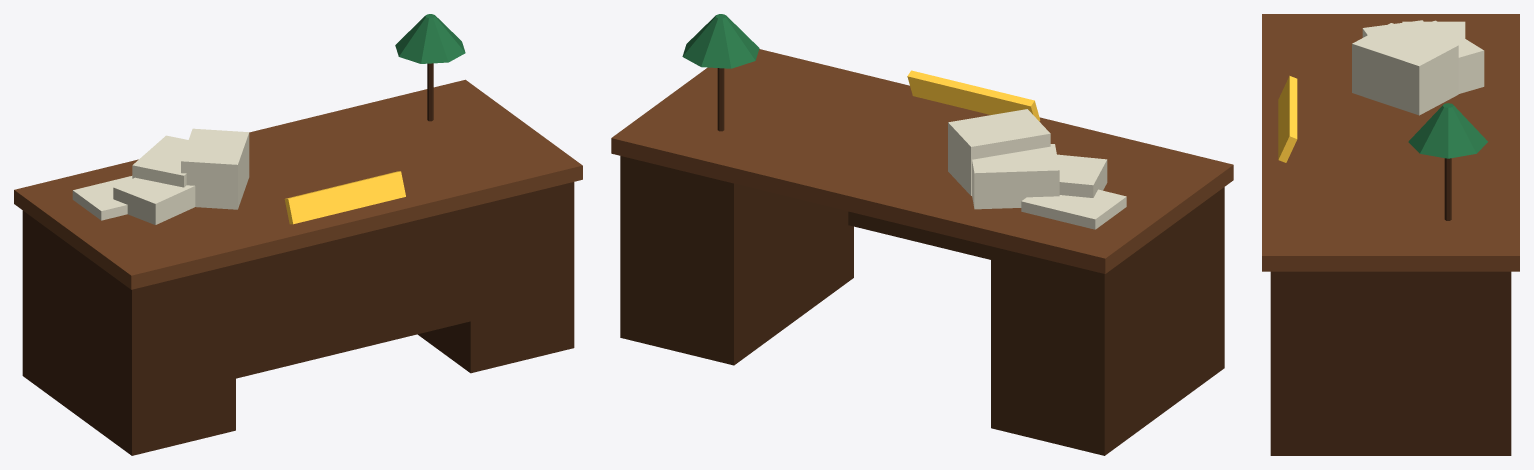
File: station_desk.glb
3 views of the same model, side by side, from view 1: azimuth 30°, elevation 25°; view 2: azimuth 150°, elevation 25°; view 3: azimuth 270°, elevation 25° (orthographic). The views are drawn at different scales.
Visible parts, largest first — view 1: desk_desk_dark, desk_desk_wood, papers_paper, plate_plate_gold, lamp_lamp_green; view 2: desk_desk_dark, desk_desk_wood, papers_paper, plate_plate_gold, lamp_lamp_green; view 3: desk_desk_wood, desk_desk_dark, papers_paper, lamp_lamp_green, plate_plate_gold, lamp_desk_dark.
Boxes of the visible parts, box(x1,y1,x2,y2) form: desk_desk_dark: box(22, 182, 574, 455); desk_desk_wood: box(14, 79, 582, 289); papers_paper: box(72, 128, 249, 224); plate_plate_gold: box(284, 171, 405, 224); lamp_lamp_green: box(395, 14, 465, 63); desk_desk_dark: box(620, 156, 1224, 455); desk_desk_wood: box(611, 49, 1233, 273); papers_paper: box(948, 109, 1126, 229); plate_plate_gold: box(907, 70, 1040, 121); lamp_lamp_green: box(682, 14, 759, 68); desk_desk_wood: box(1262, 14, 1519, 271); desk_desk_dark: box(1270, 271, 1511, 455); papers_paper: box(1352, 20, 1484, 115); lamp_lamp_green: box(1408, 103, 1487, 158); plate_plate_gold: box(1278, 75, 1297, 162); lamp_desk_dark: box(1444, 158, 1451, 220).
Bounding box in the file's own units: 2 × 1.22 × 0.9.
